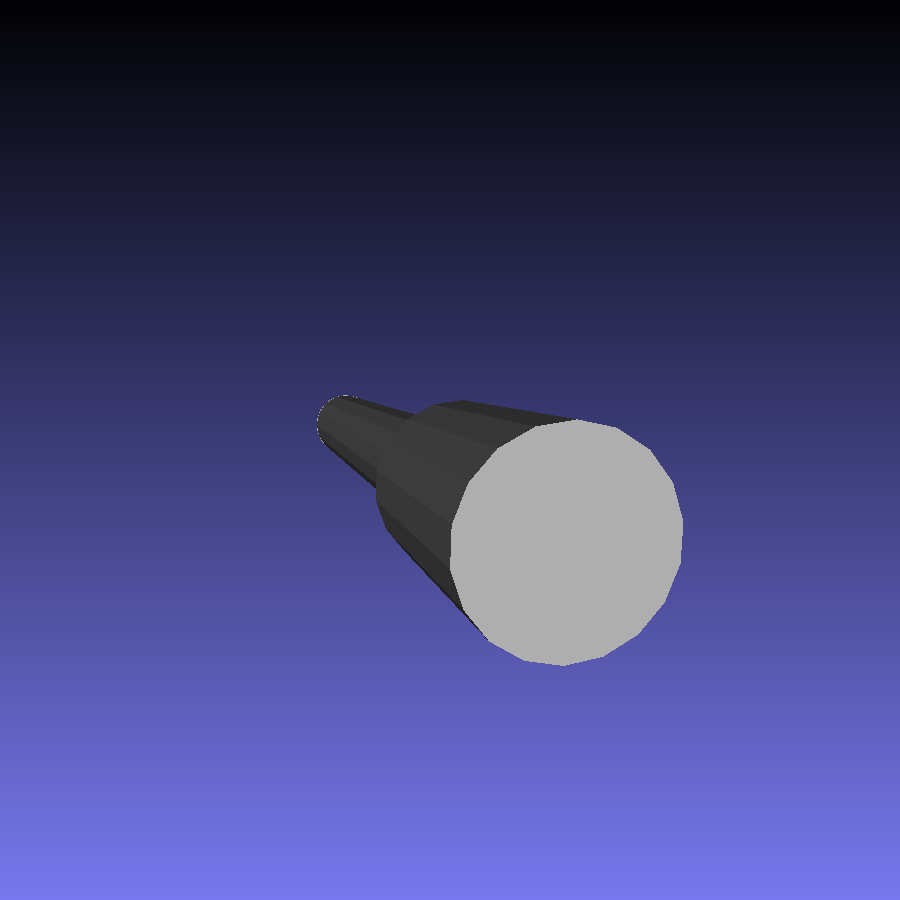cargo_g: (315, 392, 684, 665)
